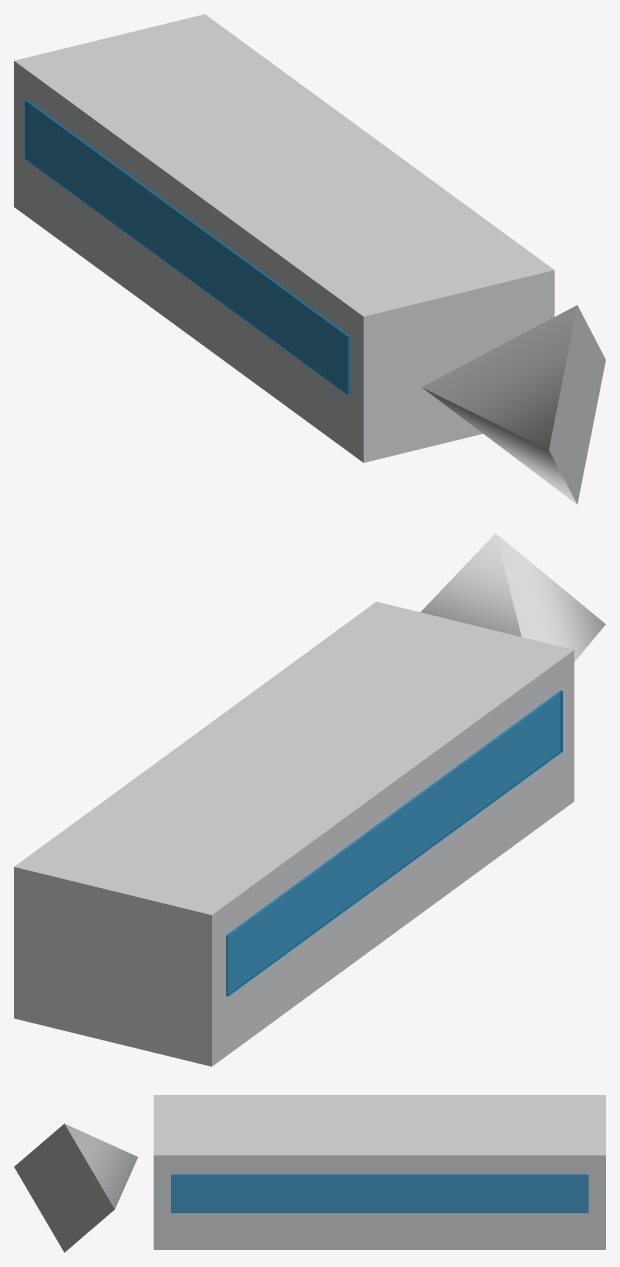
Rendered from monorail.glb.
3 views of the same model, one above another, from view 1: azimuth 30°, elevation 25°; view 2: azimuth 150°, elevation 25°; view 3: azimuth 270°, elevation 25° (orthographic). The views are drawn at different scales.
Bounding box in the file's own units: 0.271 × 0.241 × 1.
